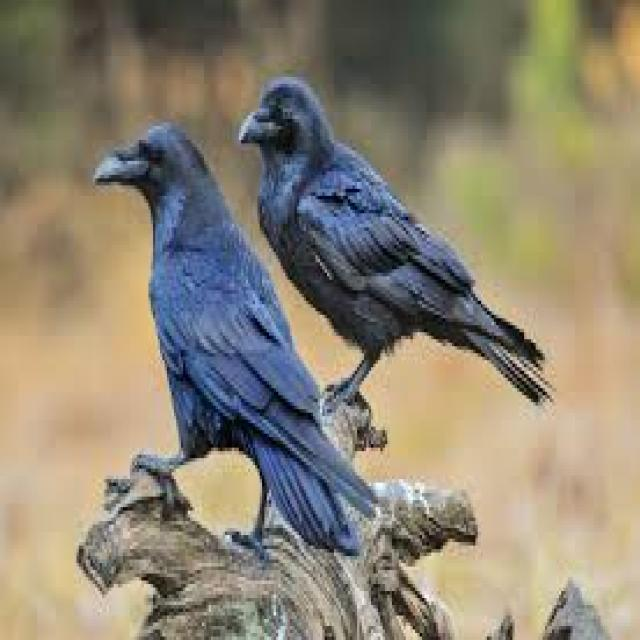bird: (92, 107, 385, 554), (237, 66, 561, 420)
